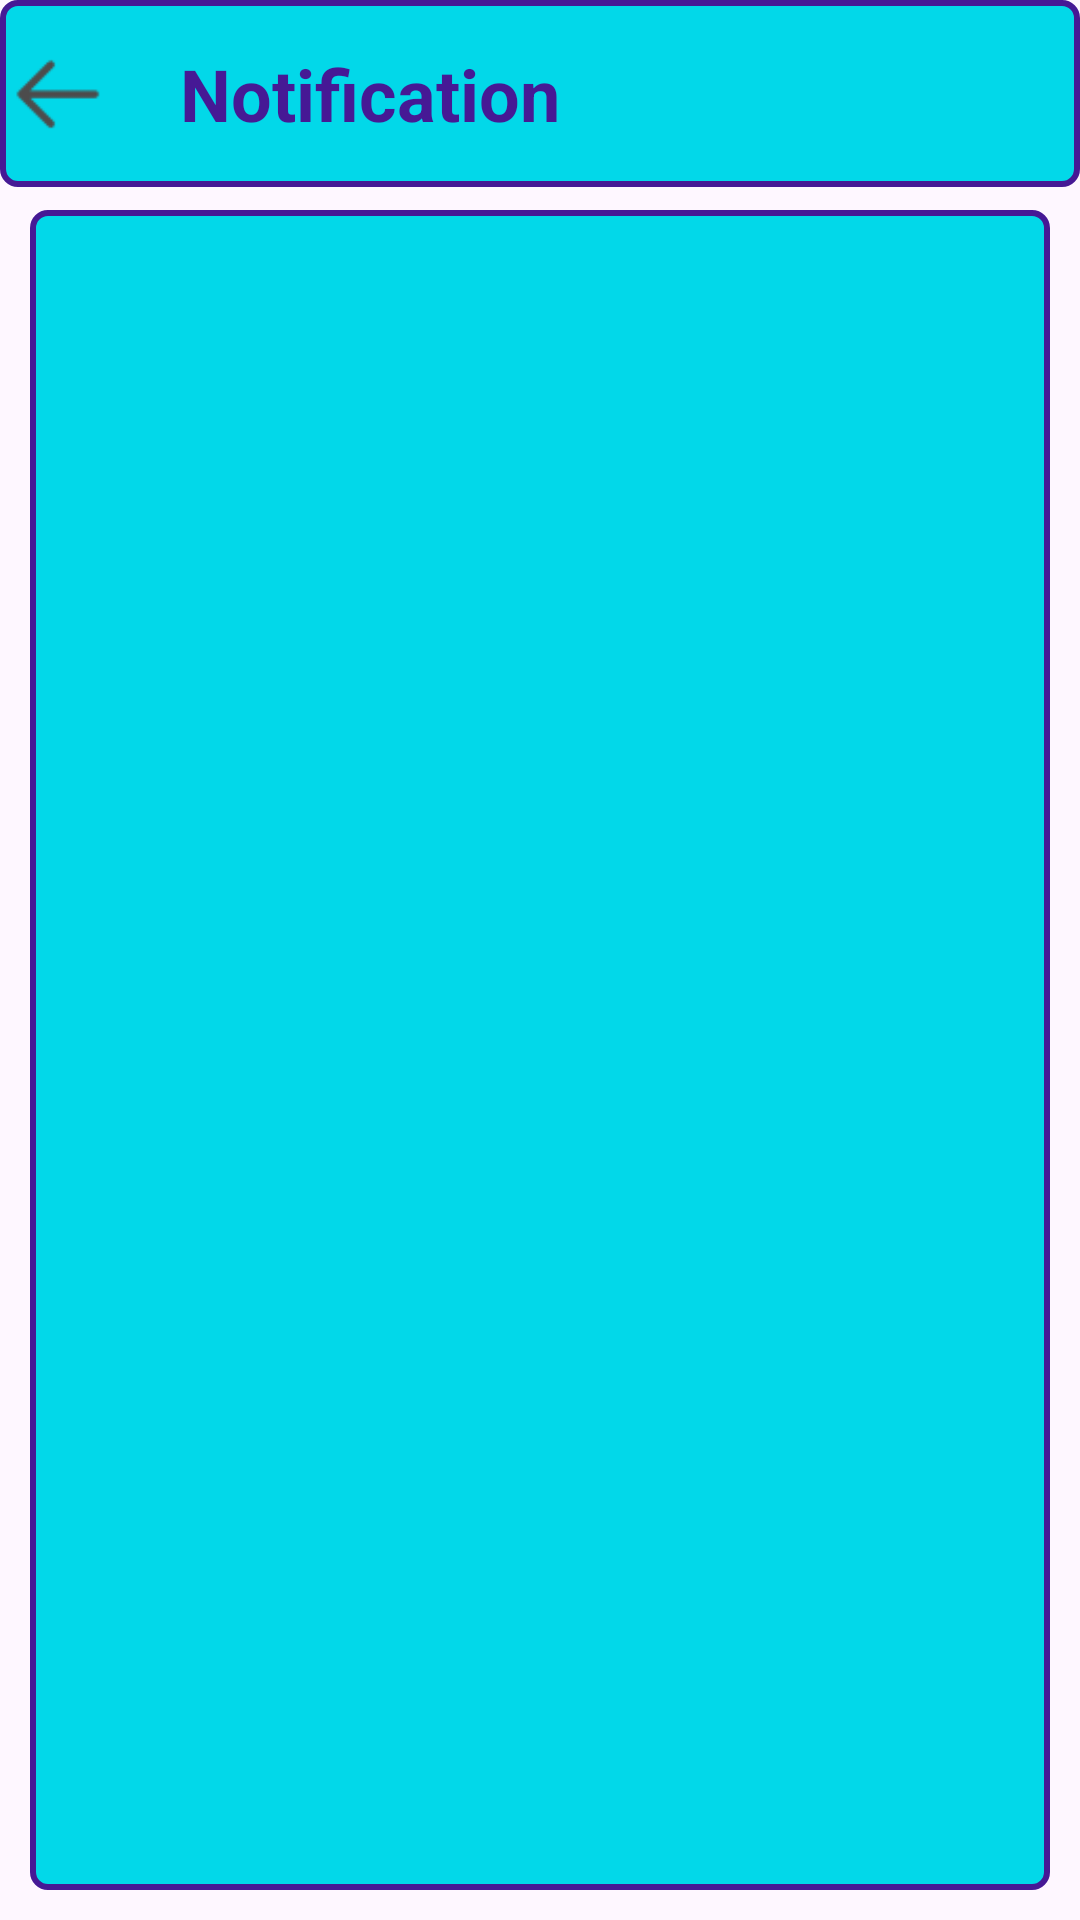

Where icons sit on this 1080w x 1920h app screen, as (x1, y1, x2, y2):
back: (16, 60, 100, 128)
